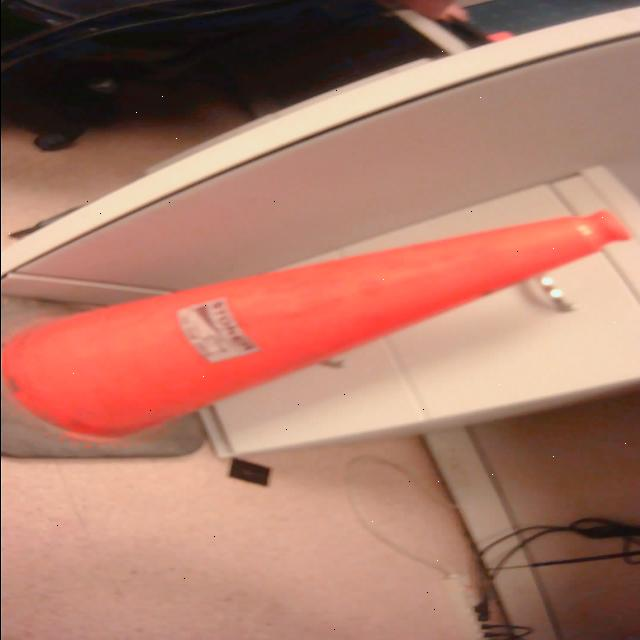traffic cone: (1, 206, 638, 468)
